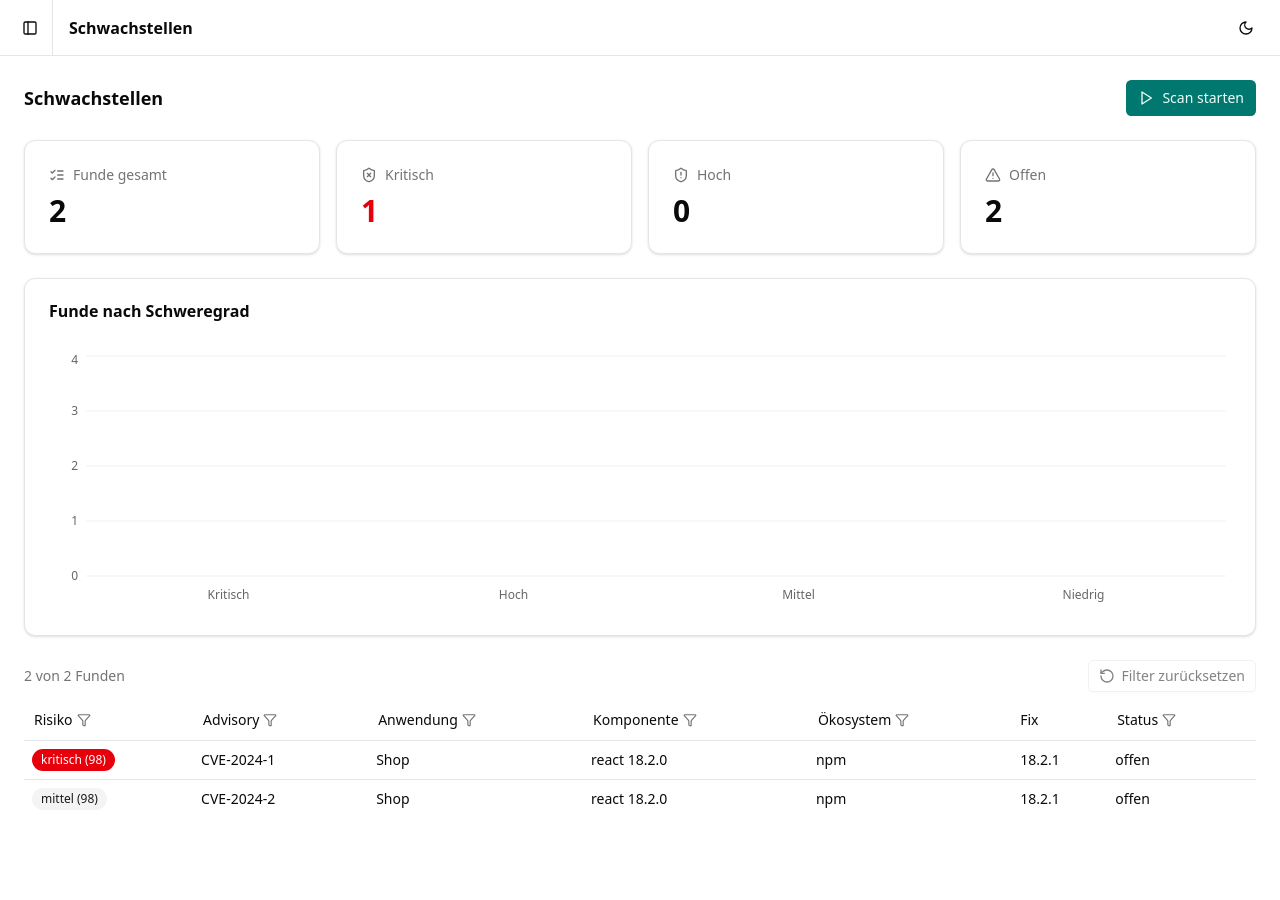
App › zeigt einen Fehler, wenn die gefilterte Abfrage scheitert
The width and height of the screenshot is (1280, 900).
Check: the row with test id "cves-item-CVE-2024-2-1" is shown, box [24, 779, 1256, 818]
Click the button with test id "cves-select-severity" at (62, 720), box [24, 704, 101, 736]
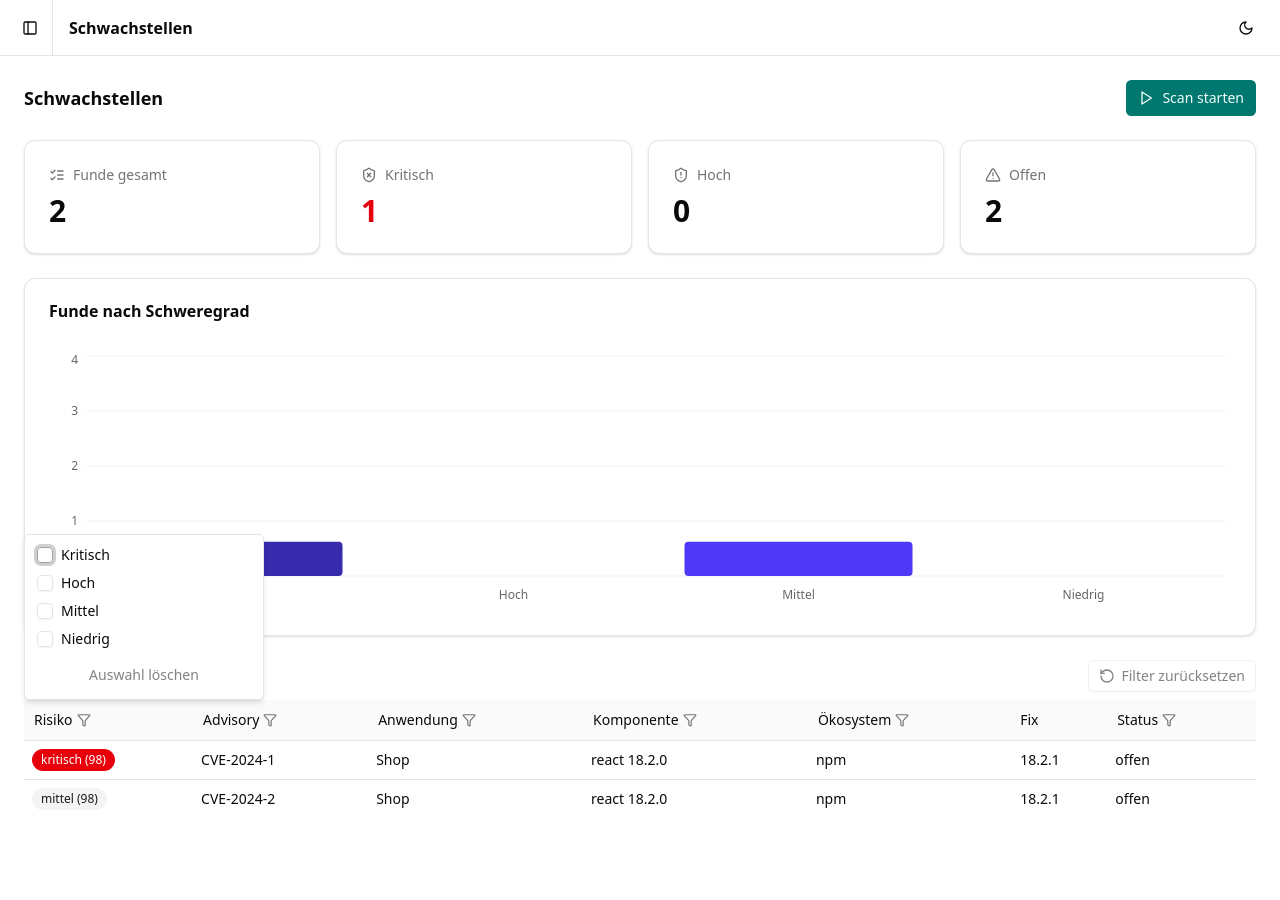
Click the checkbox with test id "cves-checkbox-severity-hoch" at (45, 583), box [37, 575, 53, 591]
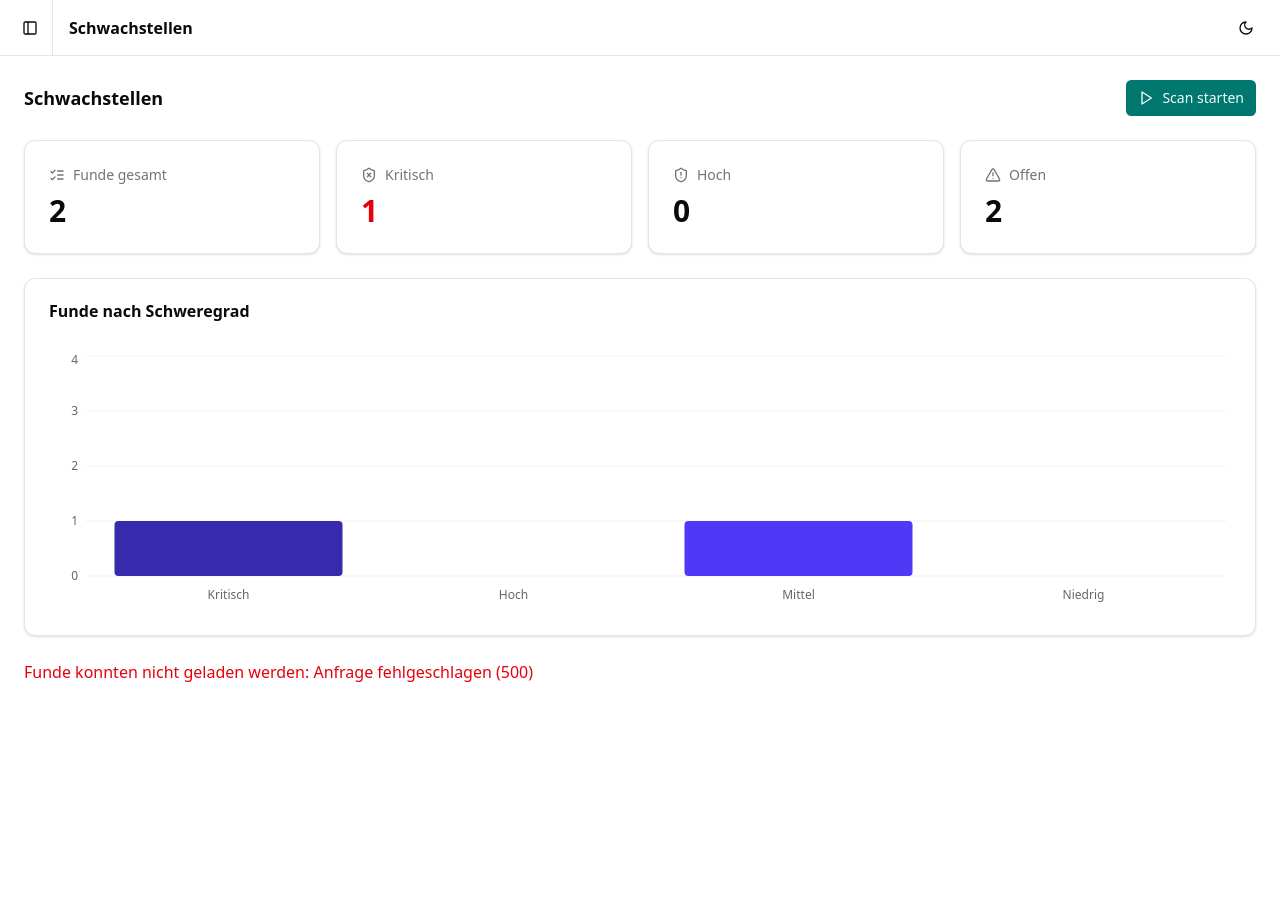
Check: the message "Funde konnten nicht geladen werden: Anfrage fehlgeschlagen (500)" is shown, box [24, 661, 533, 683]
